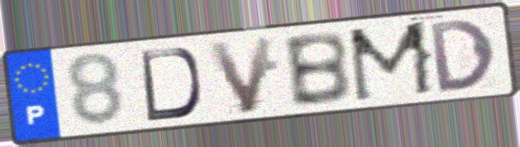8: (63, 51, 133, 131)
B: (279, 29, 355, 110)
D: (425, 16, 499, 96), (137, 45, 205, 124)
M: (344, 18, 439, 106)
V: (203, 33, 278, 117)
